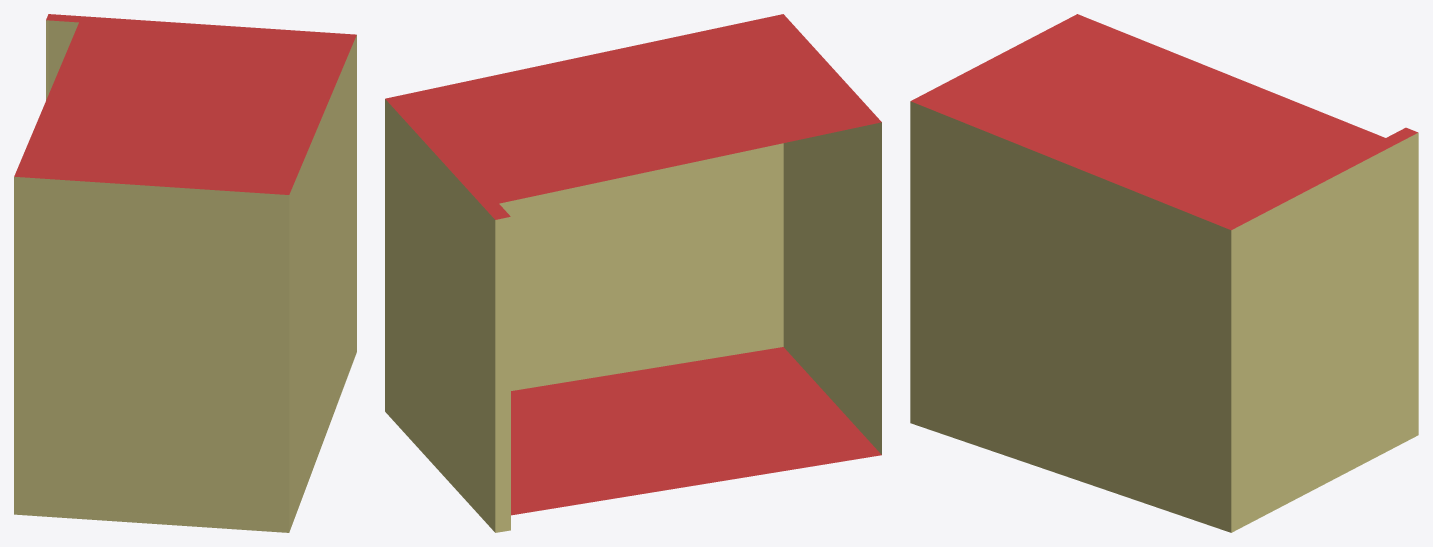
3 views of the same model, side by side, from view 1: azimuth 30°, elevation 25°; view 2: azimuth 150°, elevation 25°; view 3: azimuth 270°, elevation 25° (orthographic). The views are drawn at different scales.
Visible parts, largest first — view 1: group_4, group_3; view 2: group_4, group_3, group_5; view 3: group_4, group_3.
Boxes of the visible parts, x1,y1,x2,y2 form: group_4: (14, 20, 356, 532); group_3: (14, 14, 356, 194); group_4: (385, 99, 881, 532); group_3: (385, 14, 881, 219); group_5: (511, 347, 881, 515); group_4: (910, 101, 1418, 532); group_3: (911, 14, 1417, 230).
Size of the model in its own units: 7.76 by 8.45 by 5.91.
